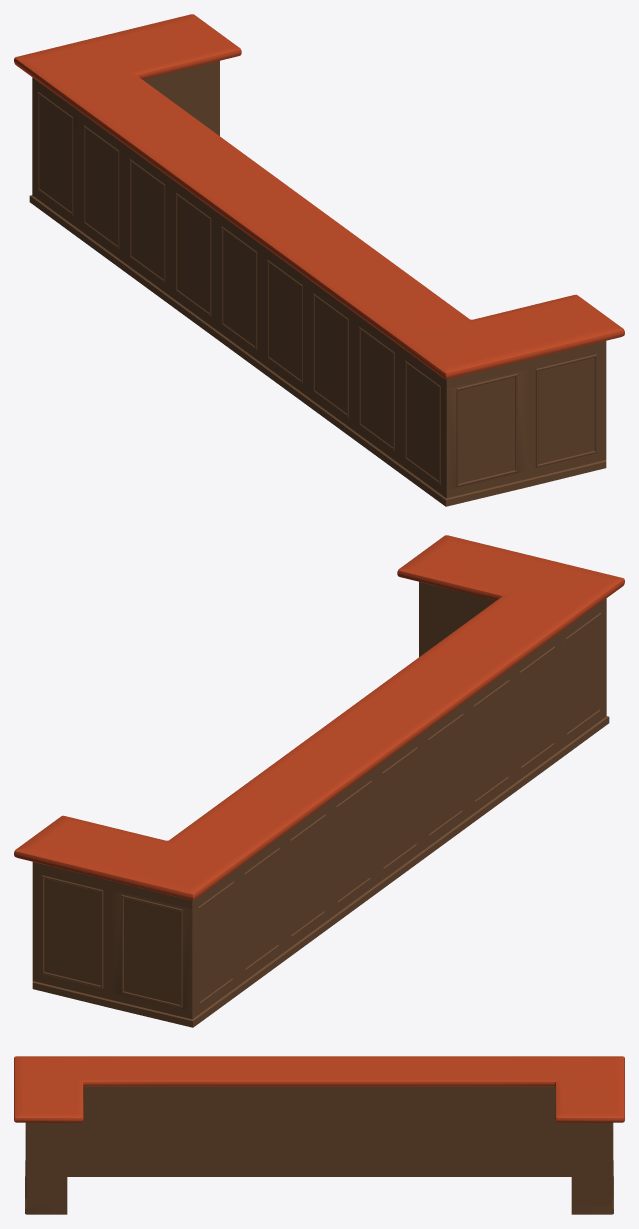
The model's file is ME_SE_Counter.fbx.
3 renders of one model, top to bottom at view 1: azimuth 30°, elevation 25°; view 2: azimuth 150°, elevation 25°; view 3: azimuth 270°, elevation 25°, orthographic. The views are drawn at different scales.
Parts seen in each view (by area): view 1: ME_SE_Counter; view 2: ME_SE_Counter; view 3: ME_SE_Counter.
Part boxes in pixels (x1,y1,x2,y2): ME_SE_Counter: [14, 14, 624, 506]; ME_SE_Counter: [14, 535, 624, 1027]; ME_SE_Counter: [14, 1056, 624, 1214].
Bounding box in the file's own units: 16499 × 12451 × 68519.
